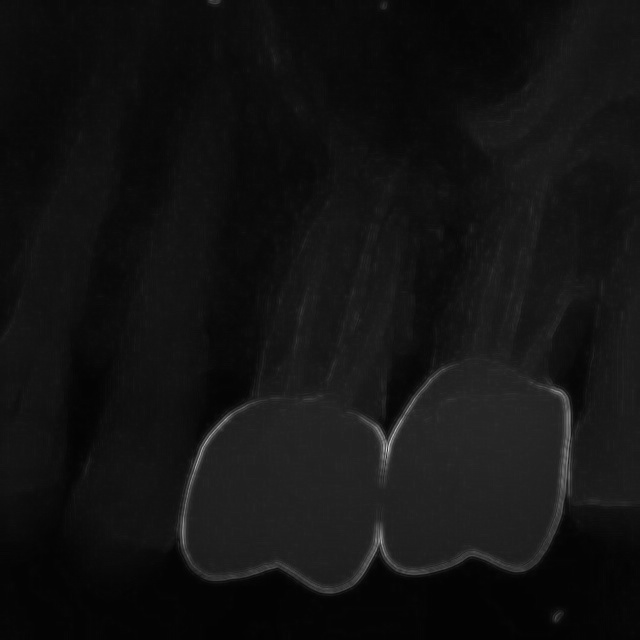Class 0- No endodontic treatment: (196, 143, 416, 601), (390, 116, 593, 590)
